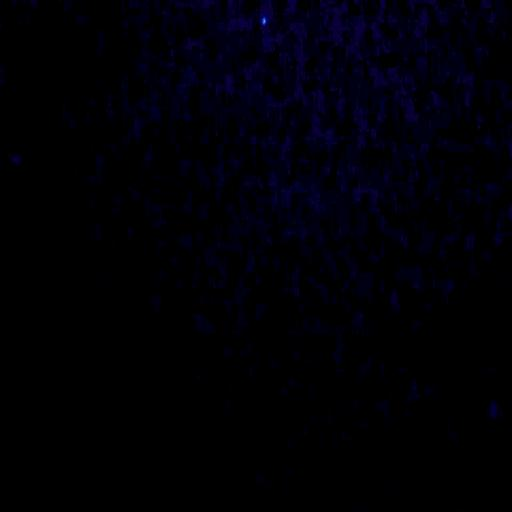object-detection-project: (262, 18, 266, 25)
